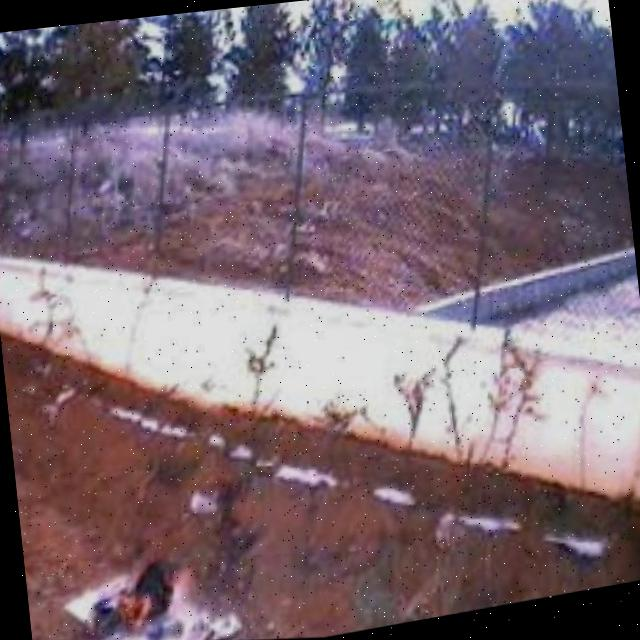fire: (87, 552, 202, 640)
